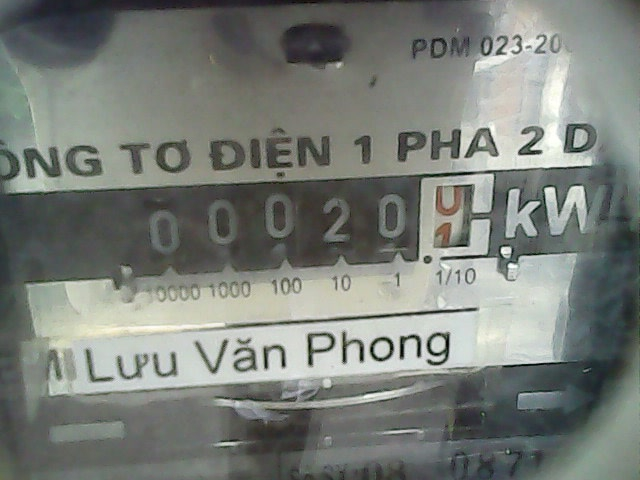phy_plate: (128, 167, 500, 269)
